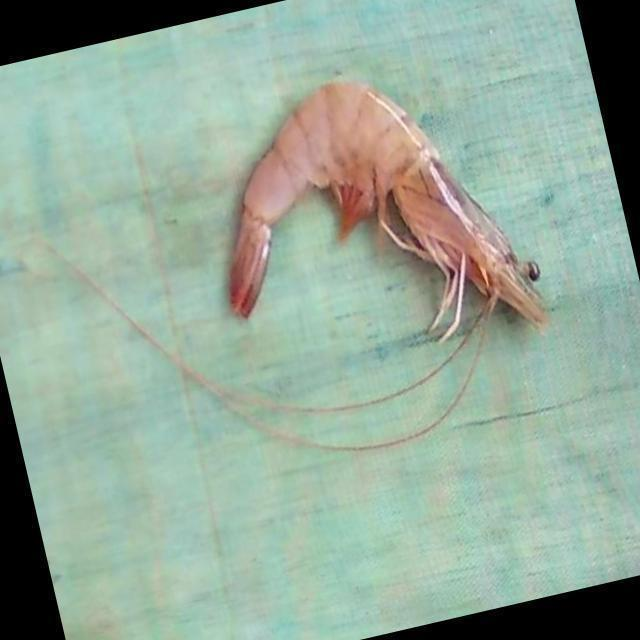shrimp: (228, 82, 548, 338)
